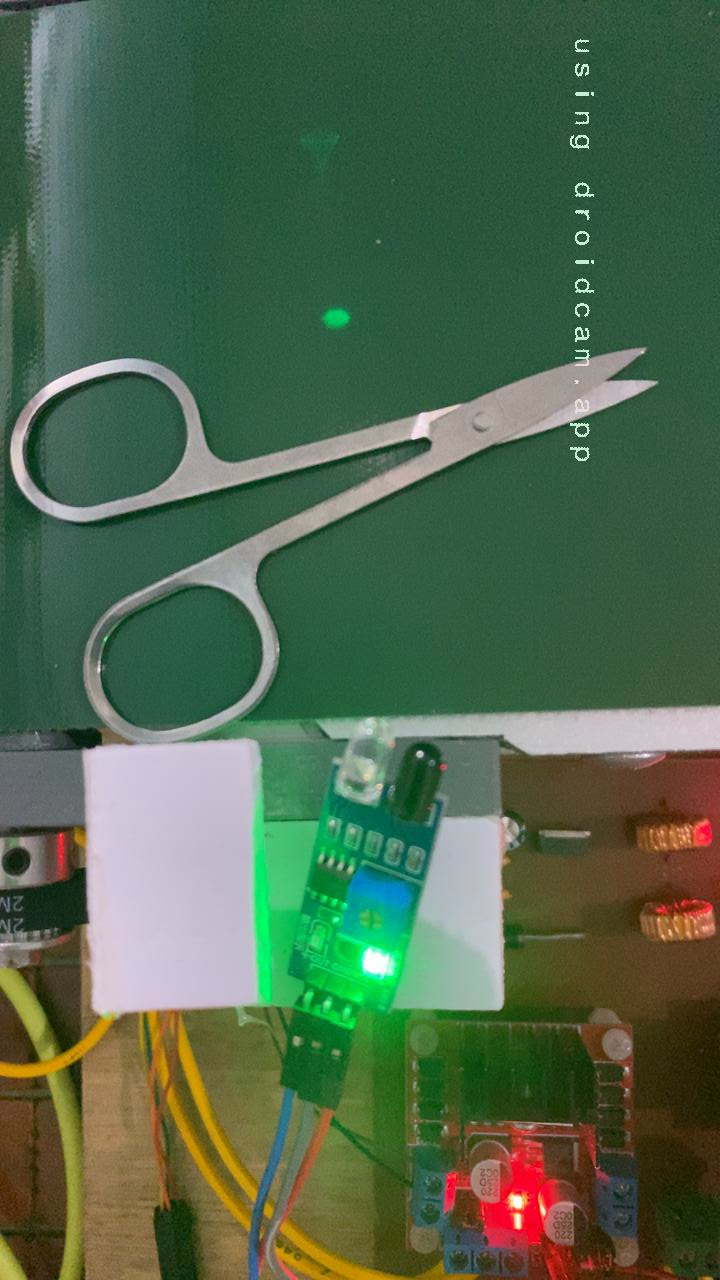scissor: (3, 341, 665, 720)
